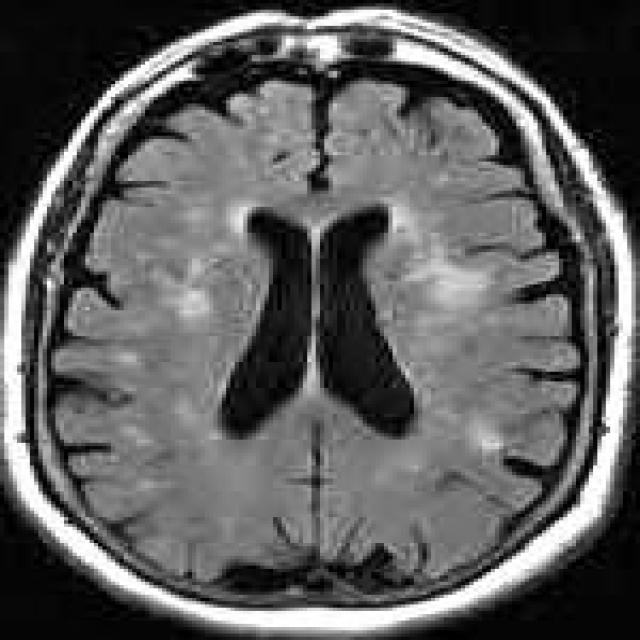notumor: (4, 10, 627, 630), (619, 459, 623, 465)
